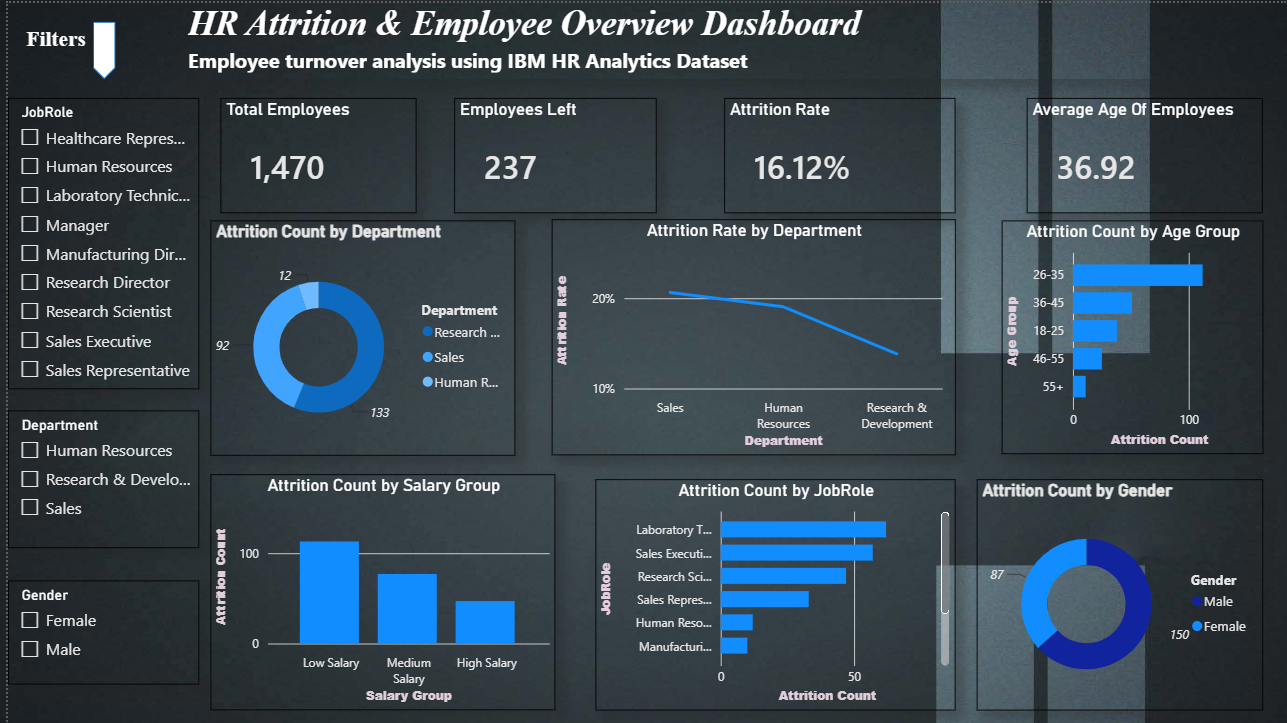

What the dashboard file says about the page in this screenshot:
{"tool":"powerbi","page":{"name":"Page 1","canvas":[1280,720],"ordinal":0},"visuals":[{"type":"textbox","title":"HR Attrition & Employee Overview Dashboard","box":[175,0,1105,76.2],"z":0},{"type":"cardVisual","title":"Attrition Rate","fields":{"Data":["Employee.Attrition Rate"]},"box":[716.2,95,231.2,115],"z":1000},{"type":"cardVisual","title":"Total Employees","fields":{"Data":["Employee.Total Employees"]},"box":[212.5,95,196.2,115],"z":2000},{"type":"cardVisual","title":"Employees Left","fields":{"Data":["Employee.Attrition Count"]},"box":[446.2,95,202.5,115],"z":3000},{"type":"donutChart","fields":{"Category":["Employee.Department"],"Y":["Employee.Attrition Count"]},"box":[202.5,217.5,305,235],"z":4000},{"type":"barChart","fields":{"Category":["Employee.Age Group"],"Y":["Employee.Attrition Count"]},"box":[993.8,217.5,261.2,233.8],"z":5000},{"type":"slicer","fields":{"Values":["Employee.Department"]},"box":[0,407.5,191.2,137.5],"z":6000},{"type":"barChart","fields":{"Category":["Employee.JobRole"],"Y":["Employee.Attrition Count"]},"box":[587.5,476.2,360,231.2],"z":7000},{"type":"donutChart","fields":{"Category":["Employee.Gender"],"Y":["Employee.Attrition Count"]},"box":[968.8,476.2,286.2,231.2],"z":8000},{"type":"columnChart","fields":{"Category":["Employee.Salary Group"],"Y":["Employee.Attrition Count"]},"box":[202.5,471.2,345,236.2],"z":9000},{"type":"slicer","fields":{"Values":["Employee.Gender"]},"box":[0,577.5,191.2,103.8],"z":10000},{"type":"slicer","fields":{"Values":["Employee.JobRole"]},"box":[0,95,191.2,291.2],"z":11000},{"type":"cardVisual","title":"Average Age Of Employees","fields":{"Data":["Avg(Employee.Age)"]},"box":[1018.8,95,236.2,115],"z":12000},{"type":"textbox","box":[0,18.8,96.2,42.5],"z":13000},{"type":"shape","box":[85,18.8,22.5,57.5],"z":14000},{"type":"lineChart","fields":{"Y":["Employee.Attrition Rate"],"Category":["Employee.Department"]},"box":[543.8,216.2,403.8,236.2],"z":15000}]}

Visuals, with their boxes in screenshot pixels (x1, y1, x2, y2), scaled from the page's 1280x720 canvas onto the 1287x723 screenshot:
"HR Attrition & Employee Overview Dashboard" textbox: (176,0,1286,77)
"Attrition Rate" cardVisual: (720,95,953,211)
"Total Employees" cardVisual: (214,95,411,211)
"Employees Left" cardVisual: (449,95,652,211)
donutChart - Employee.Department x Employee.Attrition Count: (204,218,510,454)
barChart - Employee.Age Group x Employee.Attrition Count: (999,218,1262,453)
slicer - Employee.Department: (0,409,192,547)
barChart - Employee.JobRole x Employee.Attrition Count: (591,478,953,710)
donutChart - Employee.Gender x Employee.Attrition Count: (974,478,1262,710)
columnChart - Employee.Salary Group x Employee.Attrition Count: (204,473,550,710)
slicer - Employee.Gender: (0,580,192,684)
slicer - Employee.JobRole: (0,95,192,388)
"Average Age Of Employees" cardVisual: (1024,95,1262,211)
textbox: (0,19,97,62)
shape: (85,19,108,77)
lineChart - Employee.Attrition Rate x Employee.Department: (547,217,953,454)
